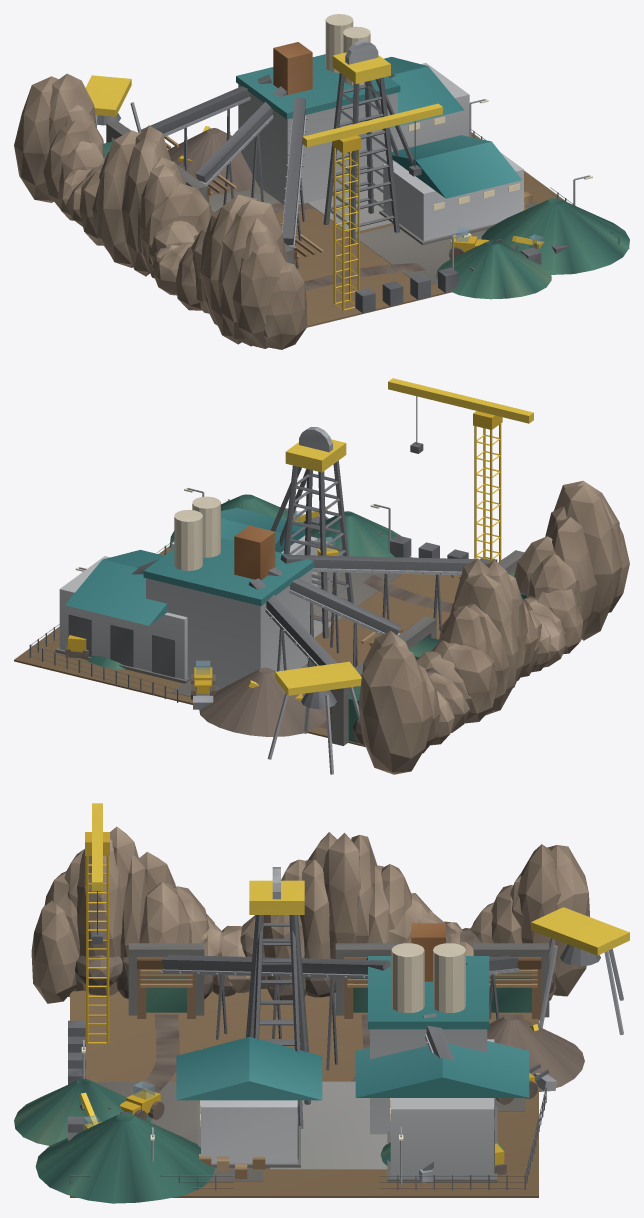
The model's file is Mine_P3.fbx.
3 views of the same model, one above another, from view 1: azimuth 30°, elevation 25°; view 2: azimuth 150°, elevation 25°; view 3: azimuth 270°, elevation 25° (orthographic). The views are drawn at different scales.
Visible parts, largest first — view 1: Mine.Cliff, Mine.Plant, Mine.Apron, Mine.Winder, Mine.Headframe, Mine.Spoil0, Mine.Crusher, Mine.Crane, Mine.Spoil1, Mine.Conv1, Mine.Conv0, Mine.Spoil2 (+8 smaller); view 2: Mine.Cliff, Mine.Plant, Mine.Crusher, Mine.Apron, Mine.Headframe, Mine.Spoil2, Mine.Crane, Mine.Conv0, Mine.LoadGantry, Mine.Conv1, Mine.Spoil1, Mine.Conv2 (+8 smaller); view 3: Mine.Cliff, Mine.Apron, Mine.Crusher, Mine.Winder, Mine.Plant, Mine.Spoil0, Mine.Headframe, Mine.Conv0, Mine.Adit0, Mine.LoadGantry, Mine.Spoil1, Mine.Adit2 (+11 smaller).
Boxes of the visible parts, x1,y1,x2,y2 form: Mine.Cliff: [14, 73, 307, 349]; Mine.Plant: [236, 14, 400, 204]; Mine.Apron: [209, 132, 629, 327]; Mine.Winder: [379, 135, 523, 245]; Mine.Headframe: [323, 40, 413, 243]; Mine.Spoil0: [481, 198, 629, 274]; Mine.Crusher: [384, 57, 469, 150]; Mine.Crane: [302, 103, 442, 310]; Mine.Spoil1: [436, 240, 551, 299]; Mine.Conv1: [195, 86, 286, 205]; Mine.Conv0: [281, 98, 307, 268]; Mine.Spoil2: [168, 128, 258, 194]; Mine.Cliff: [352, 480, 629, 774]; Mine.Plant: [143, 496, 314, 688]; Mine.Crusher: [55, 550, 190, 683]; Mine.Apron: [14, 546, 460, 747]; Mine.Headframe: [270, 427, 353, 638]; Mine.Spoil2: [199, 667, 326, 736]; Mine.Crane: [388, 378, 533, 561]; Mine.Conv0: [280, 554, 490, 653]; Mine.LoadGantry: [267, 661, 361, 774]; Mine.Conv1: [268, 567, 401, 667]; Mine.Spoil1: [311, 511, 400, 557]; Mine.Conv2: [248, 578, 336, 693]; Mine.Cliff: [31, 826, 589, 1003]; Mine.Apron: [70, 989, 538, 1197]; Mine.Crusher: [355, 1039, 529, 1182]; Mine.Winder: [176, 1037, 322, 1168]; Mine.Plant: [368, 923, 489, 1134]; Mine.Spoil0: [35, 1113, 214, 1203]; Mine.Headframe: [246, 867, 310, 1128]; Mine.Conv0: [160, 955, 390, 1070]; Mine.Adit0: [128, 943, 204, 1018]; Mine.LoadGantry: [531, 907, 629, 1034]; Mine.Spoil1: [14, 1079, 151, 1145]; Mine.Adit2: [473, 943, 549, 1020].
Size of the model in its own units: 8409 by 3948 by 8928.
